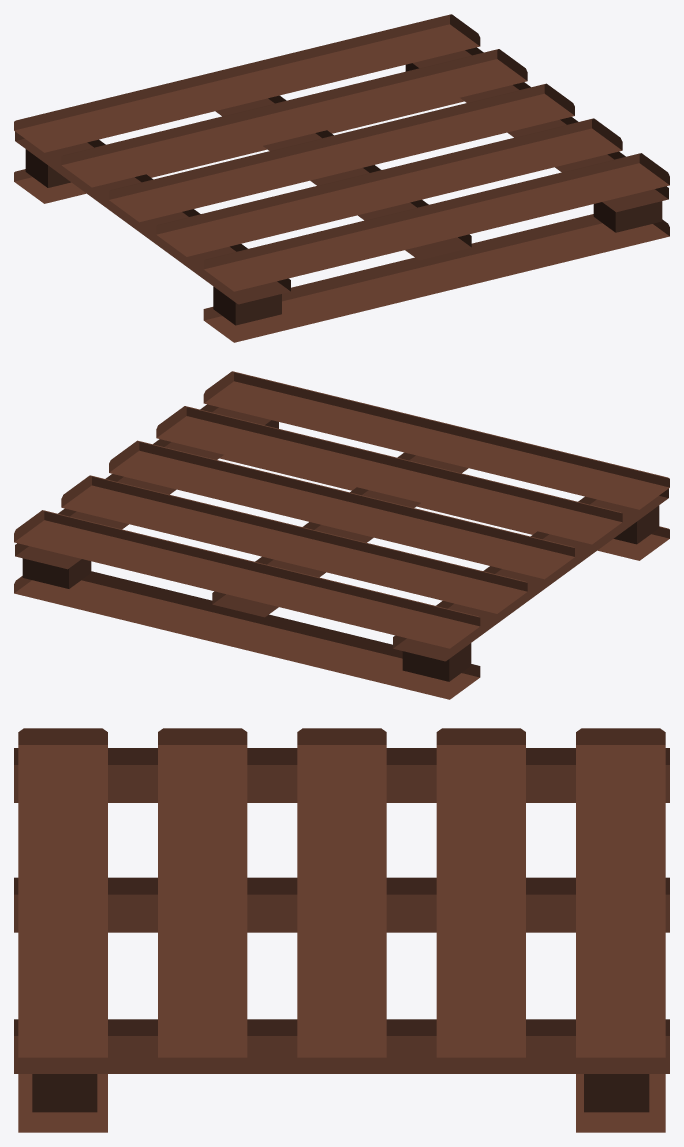
The model's file is ConstructionPallet_01.glb.
The picture shows the model from 3 angles, top to bottom: view 1: azimuth 30°, elevation 25°; view 2: azimuth 150°, elevation 25°; view 3: azimuth 270°, elevation 25°; orthographic projection. The views are drawn at different scales.
Visible parts, largest first — view 1: ConstructionPallet_01; view 2: ConstructionPallet_01; view 3: ConstructionPallet_01.
Part boxes in pixels (x1=…): ConstructionPallet_01: x1=14, y1=14, x2=669, y2=342; ConstructionPallet_01: x1=14, y1=371, x2=669, y2=699; ConstructionPallet_01: x1=14, y1=728, x2=669, y2=1132.
Size of what is drawn, in the model's own units: 2.14 by 0.2935 by 1.89.
1 material, 1 textured.
